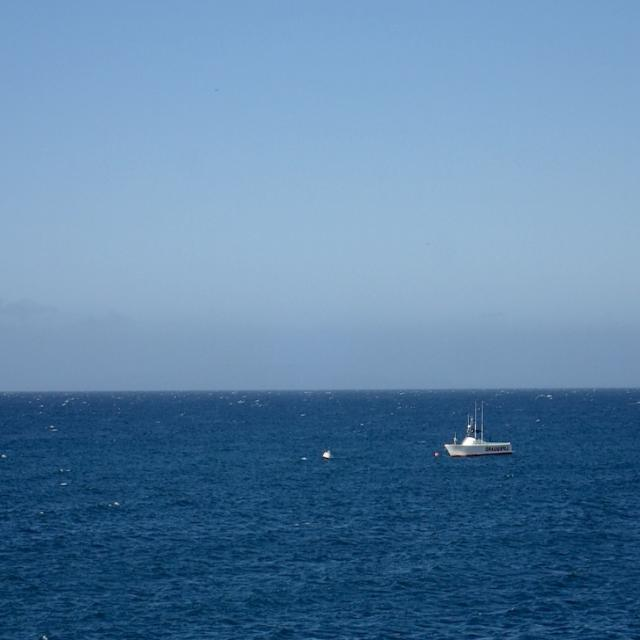houseboat: (445, 396, 514, 459)
